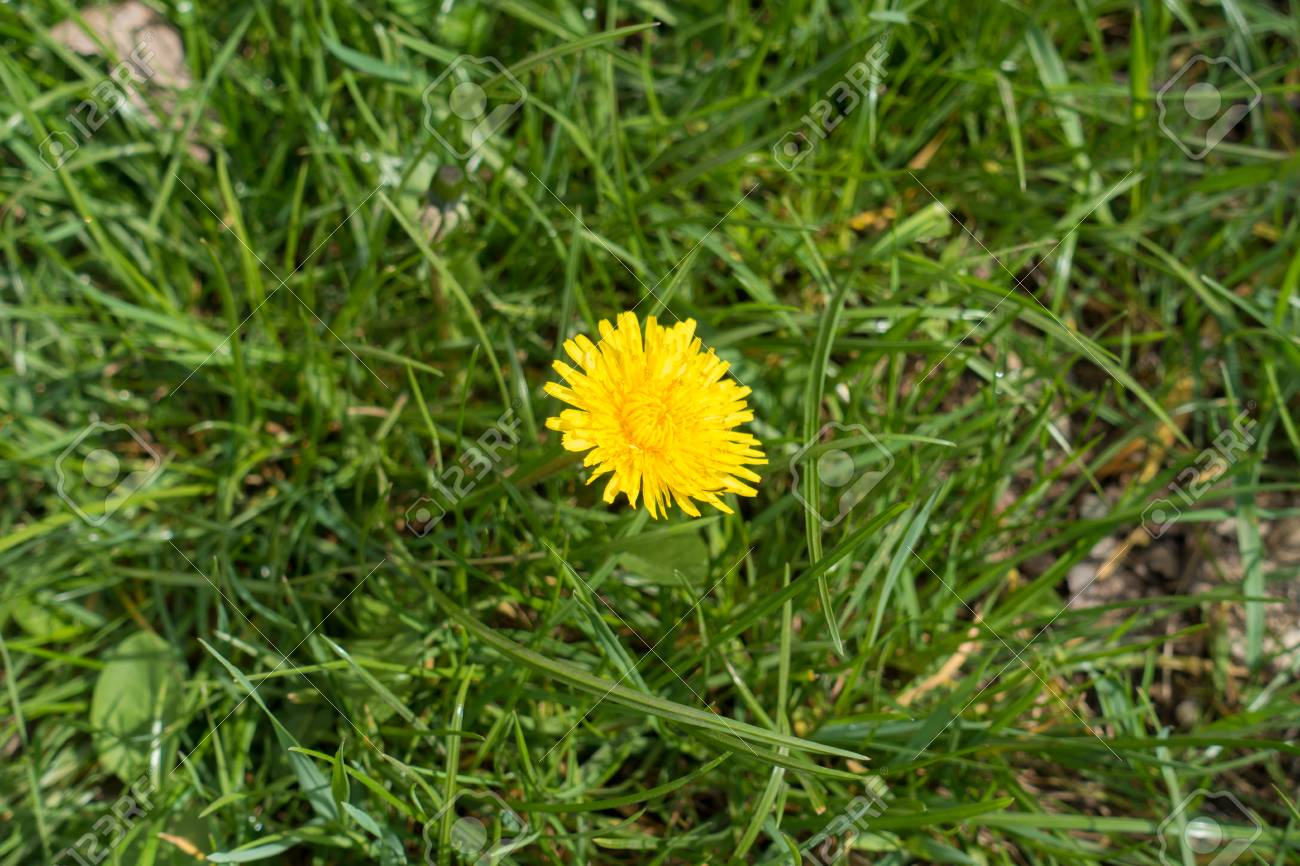dandelion: (554, 314, 757, 497)
